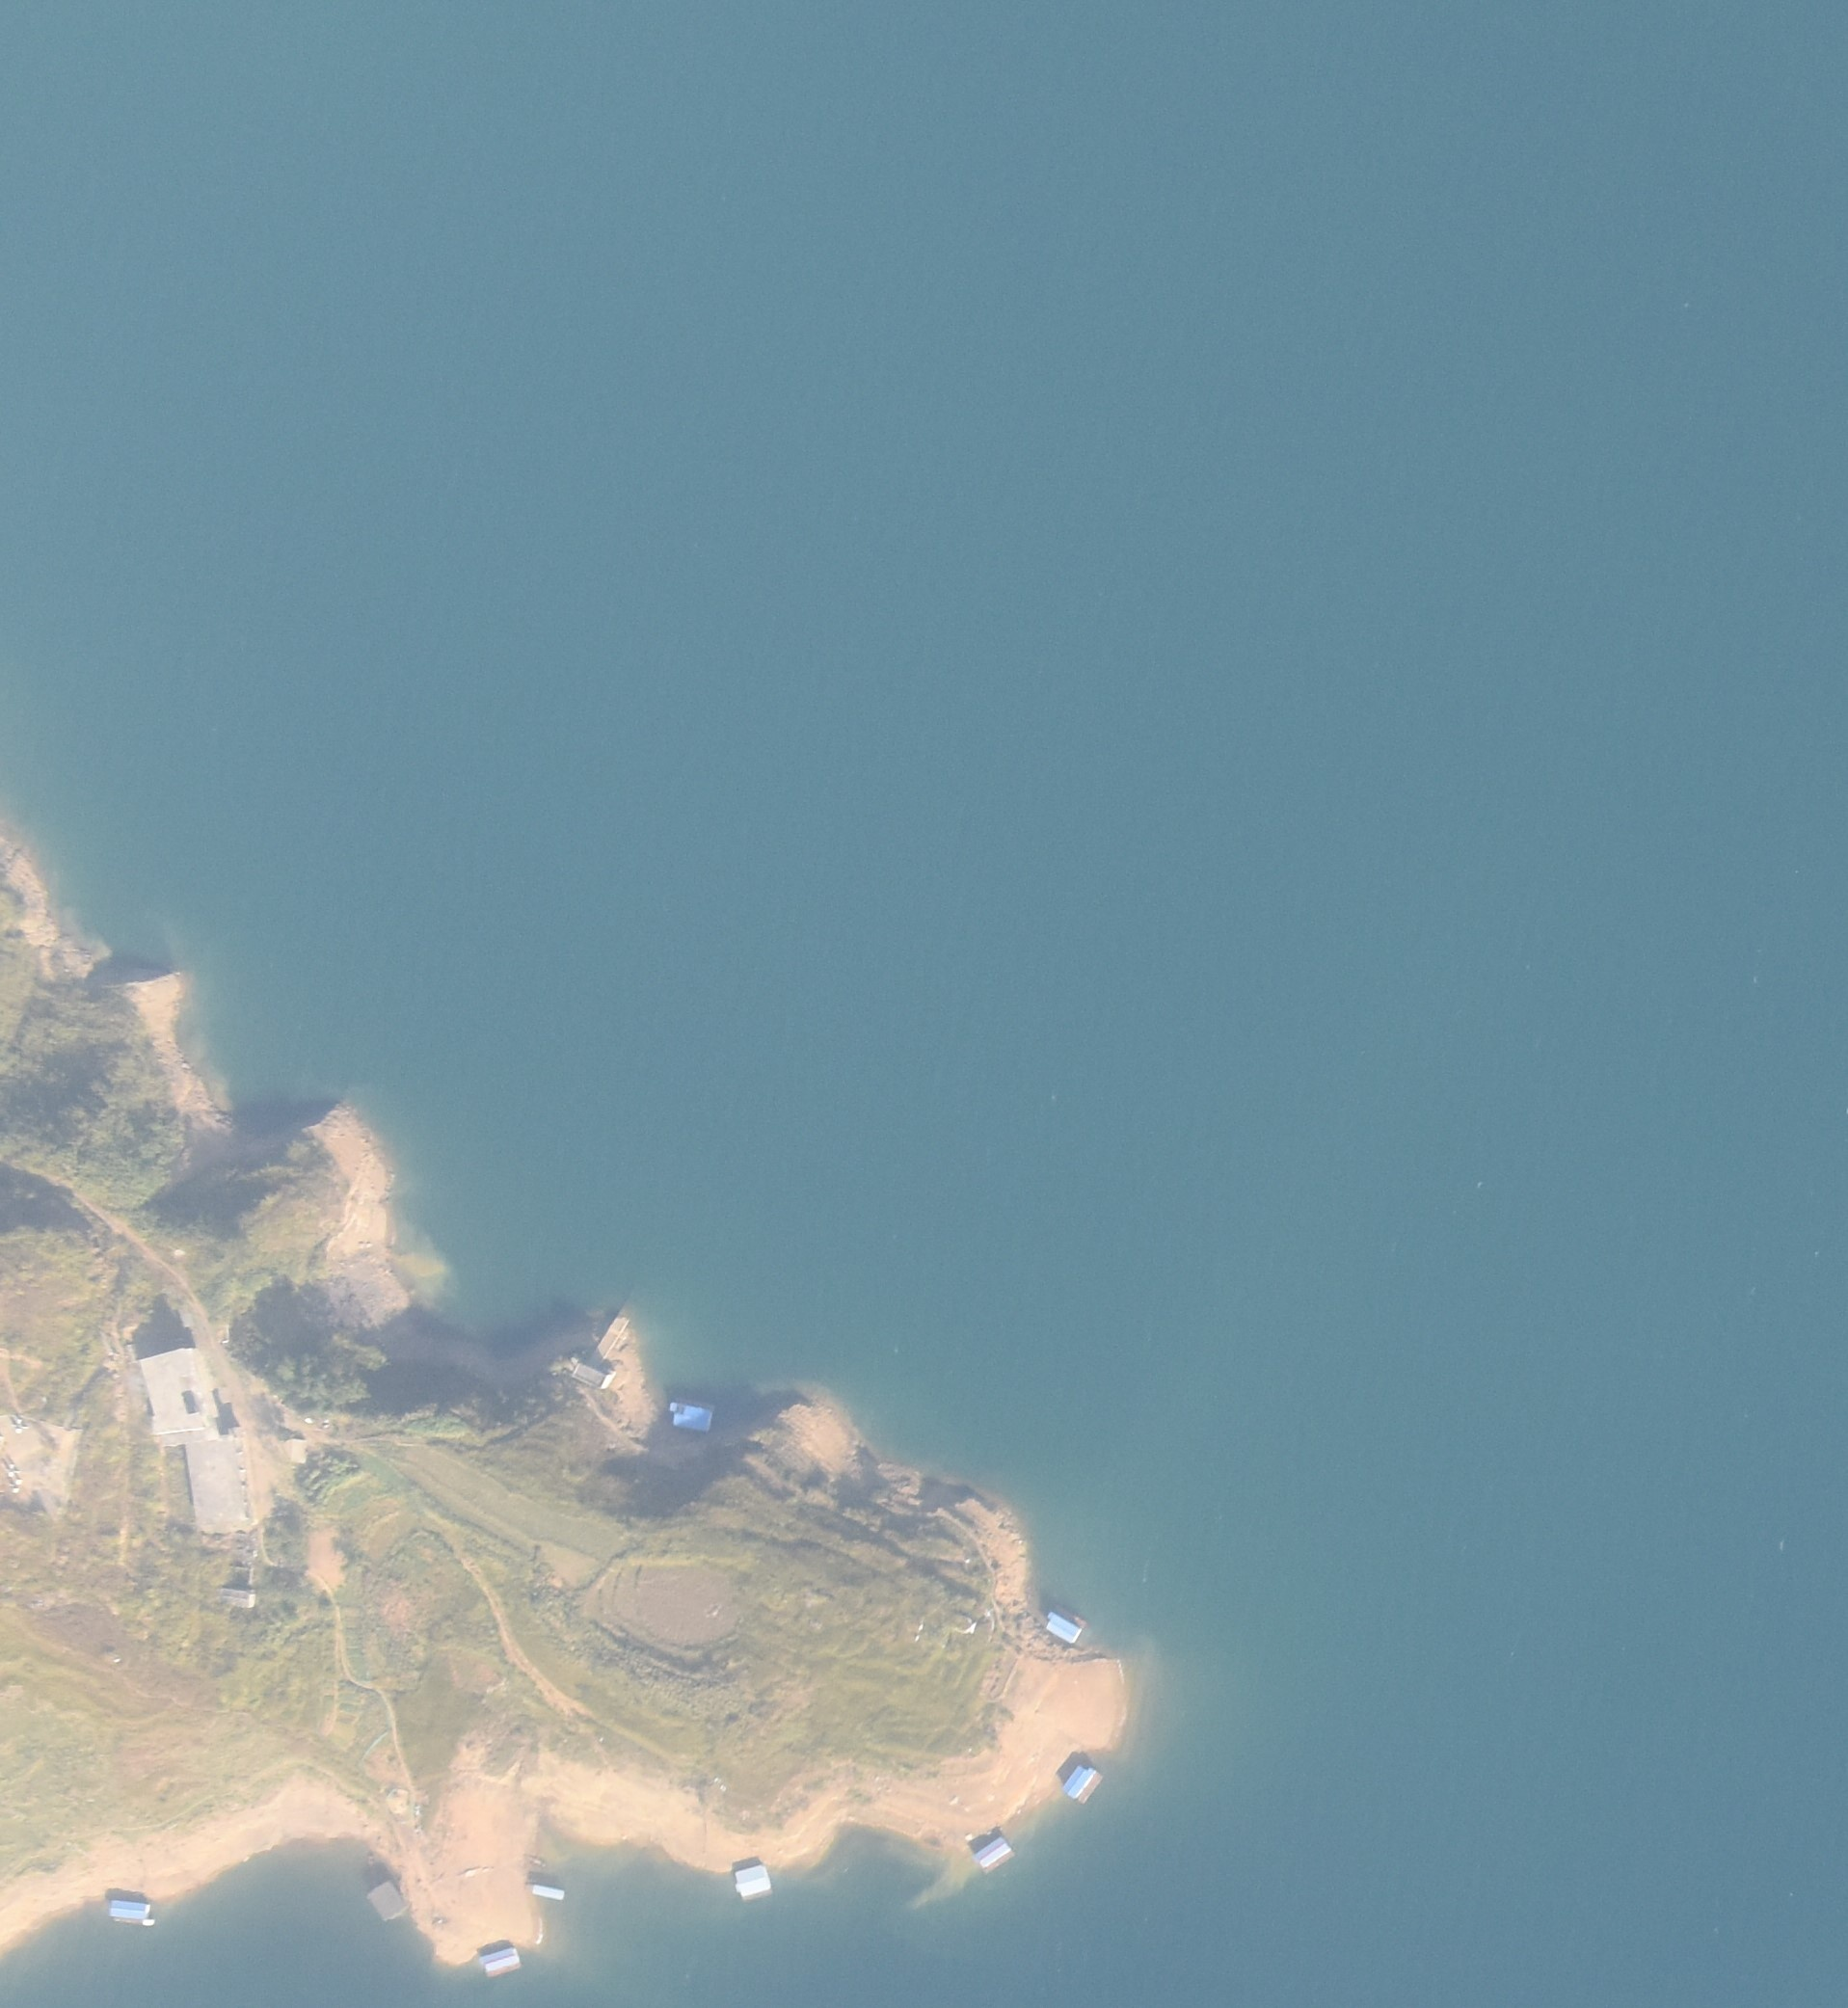building: (140, 1344, 218, 1443), (187, 1428, 254, 1530), (217, 1549, 257, 1605), (594, 1315, 629, 1364), (573, 1358, 611, 1388), (287, 1435, 308, 1464)
prefabricated-house: (971, 1834, 1016, 1872), (730, 1861, 773, 1899), (664, 1397, 711, 1431), (366, 1879, 403, 1921), (475, 1945, 523, 1975), (1065, 1763, 1102, 1802), (110, 1892, 154, 1922), (1042, 1607, 1079, 1643)
ship: (524, 1878, 566, 1900), (524, 1855, 545, 1868)
